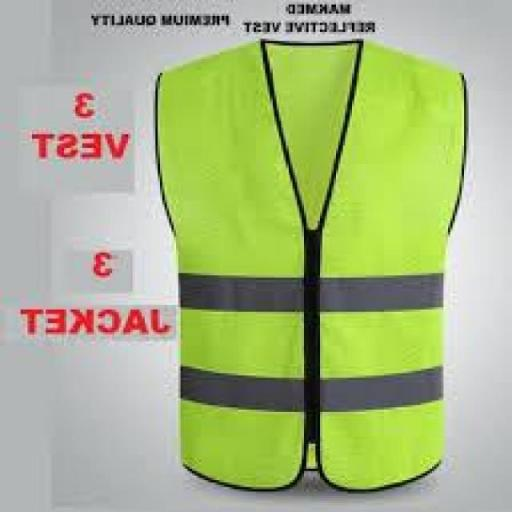vest: (121, 20, 486, 512)
